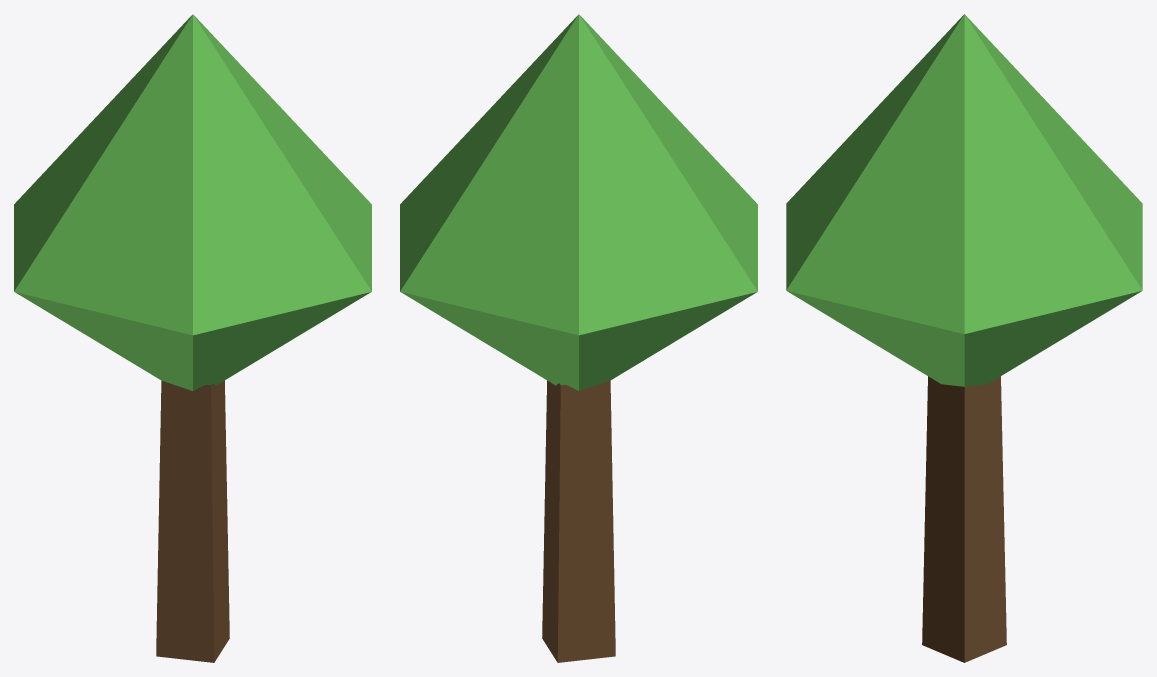
File: treeleaf.obj
The picture shows the model from 3 angles, left to right: view 1: azimuth 30°, elevation 25°; view 2: azimuth 150°, elevation 25°; view 3: azimuth 270°, elevation 25°; orthographic projection.
Size of the model in its own units: 1.36 by 2.3 by 1.18.
